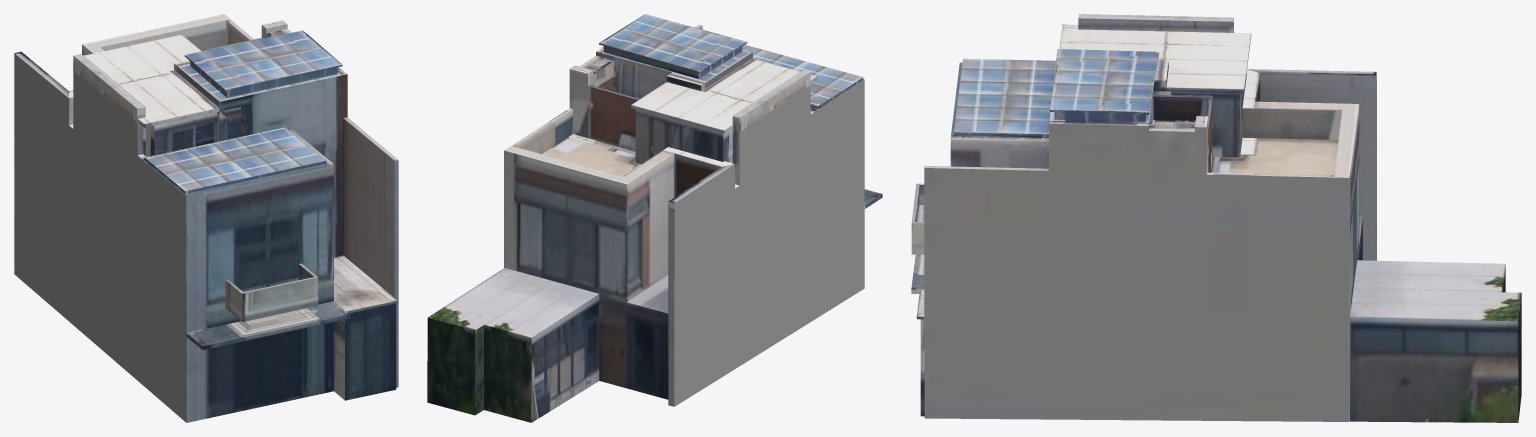
3 renders of one model, left to right at view 1: azimuth 30°, elevation 25°; view 2: azimuth 150°, elevation 25°; view 3: azimuth 270°, elevation 25°, orthographic. The views are drawn at different scales.
Parts seen in each view (by area): view 1: B285304030601062A0; view 2: B285304030601062A0; view 3: B285304030601062A0.
Boxes of the visible parts, x1,y1,x2,y2 form: B285304030601062A0: (14,14,398,422); B285304030601062A0: (427,14,882,422); B285304030601062A0: (911,14,1521,422).
Bounding box in the file's own units: 9.58 × 11.52 × 20.62.
1 material, 1 textured.
